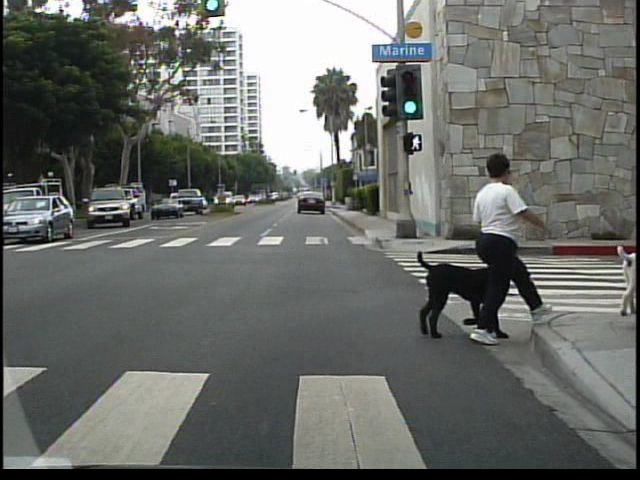person: (461, 146, 534, 345)
